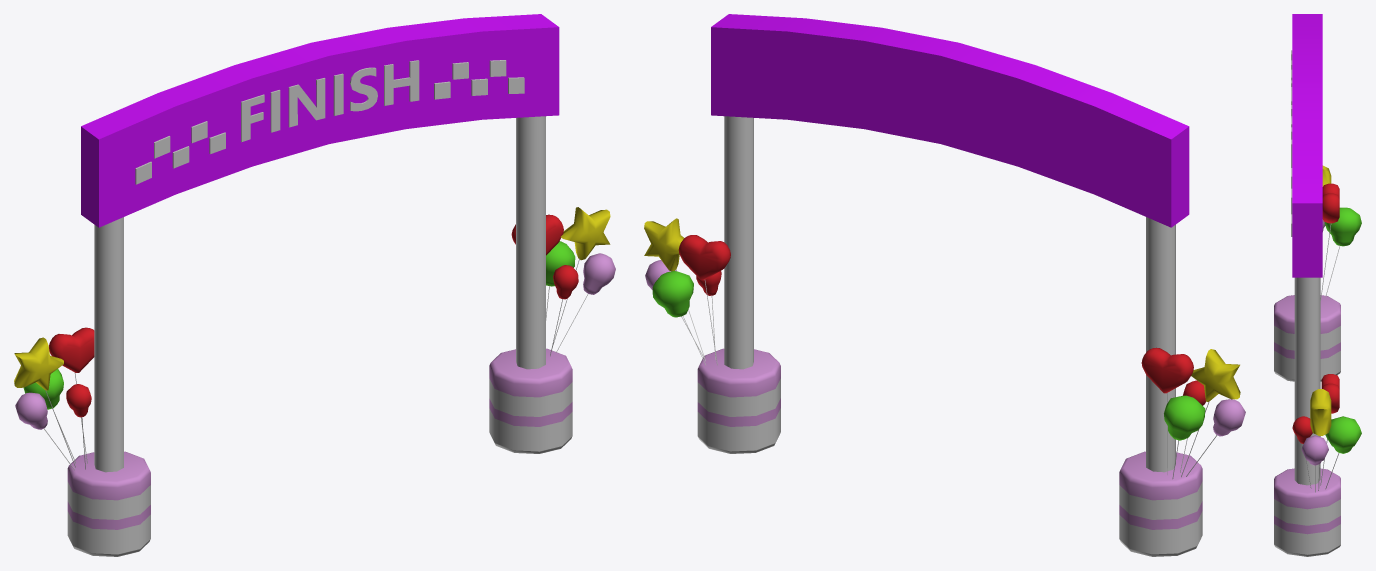
Rendered from Finish Gates.fbx.
3 renders of one model, left to right at view 1: azimuth 30°, elevation 25°; view 2: azimuth 150°, elevation 25°; view 3: azimuth 270°, elevation 25°, orthographic. The views are drawn at different scales.
Visible parts, largest first — view 1: Finish_02, Finish; view 2: Finish_02; view 3: Finish_02, Finish.
Boxes of the visible parts, x1,y1,x2,y2 form: Finish_02: (14,14,615,556); Finish: (135,60,524,184); Finish_02: (644,14,1245,556); Finish_02: (1274,14,1361,556); Finish: (1291,50,1292,236).
Bounding box in the file's own units: 1415 × 999 × 214.
